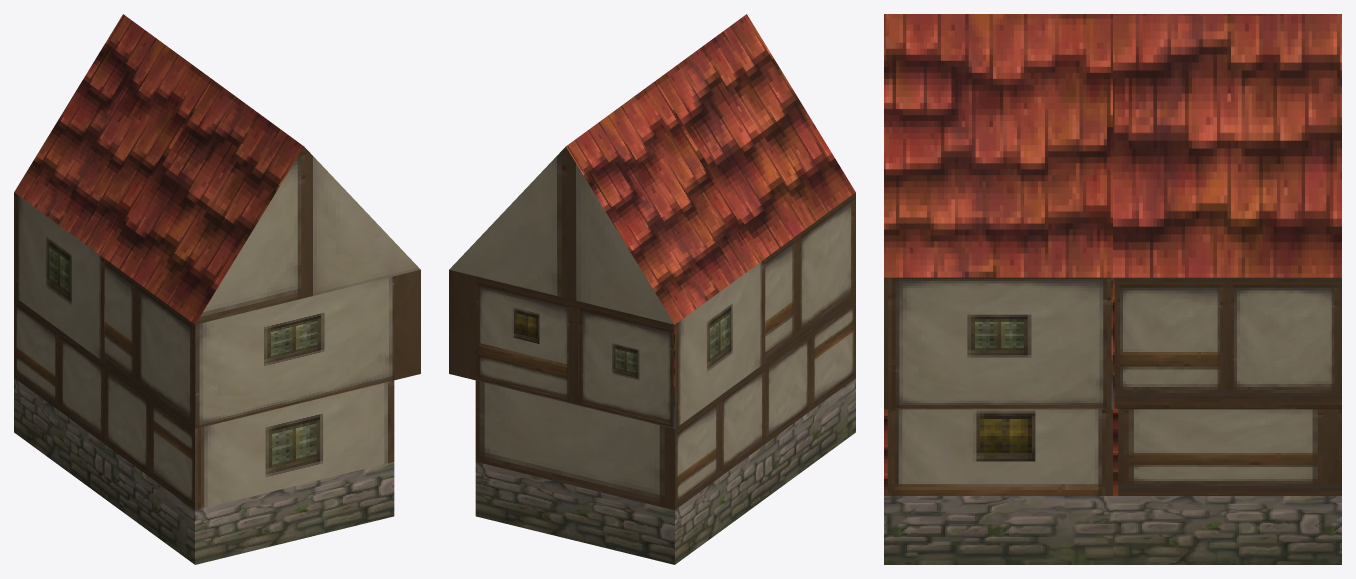
Rendered from LowPoly_Tomedelic_MedievalHouse_02.fbx.
The picture shows the model from 3 angles, left to right: view 1: azimuth 30°, elevation 25°; view 2: azimuth 150°, elevation 25°; view 3: azimuth 270°, elevation 25°; orthographic projection. The views are drawn at different scales.
Visible parts, largest first — view 1: Cube; view 2: Cube; view 3: Cube.
Boxes of the visible parts, x1,y1,x2,y2 form: Cube: (14,14,420,564); Cube: (449,14,855,564); Cube: (884,14,1341,564).
Size of the model in its own units: 424 by 704 by 589.
